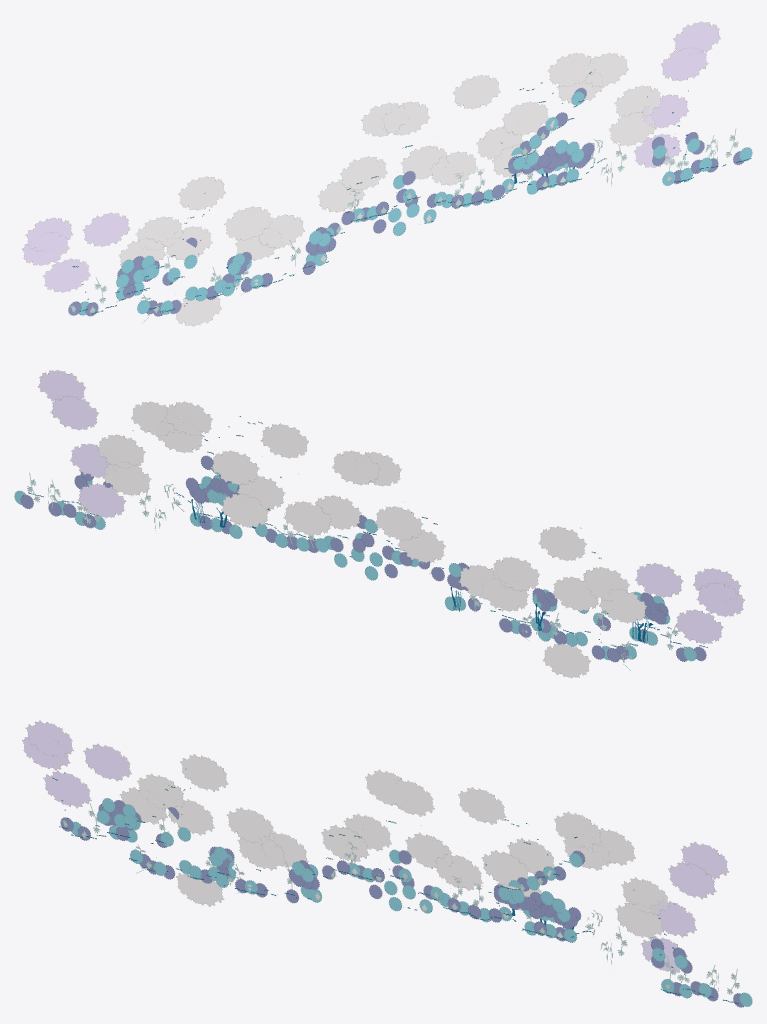
File: flower03_bg.glb
The picture shows the model from 3 angles, top to bottom: view 1: azimuth 30°, elevation 25°; view 2: azimuth 150°, elevation 25°; view 3: azimuth 330°, elevation 25°; orthographic projection.
Visible parts, largest first — view 1: flower03_bg; view 2: flower03_bg; view 3: flower03_bg.
Boxes of the visible parts, box(x1,y1,x2,y2) form: flower03_bg: box(22, 21, 752, 326); flower03_bg: box(14, 369, 744, 678); flower03_bg: box(22, 720, 752, 1007).
Bounding box in the file's own units: 5471 × 1301 × 136.
Materials: 12 (12 with a texture image).
